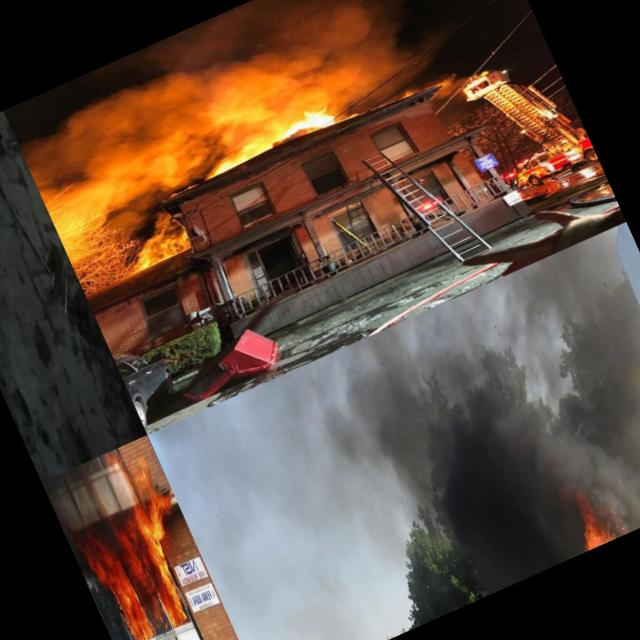fire: (52, 447, 217, 640), (190, 81, 366, 188), (118, 204, 206, 275)
smoke: (361, 222, 640, 600), (6, 0, 456, 228), (148, 341, 444, 626), (73, 465, 131, 564)
